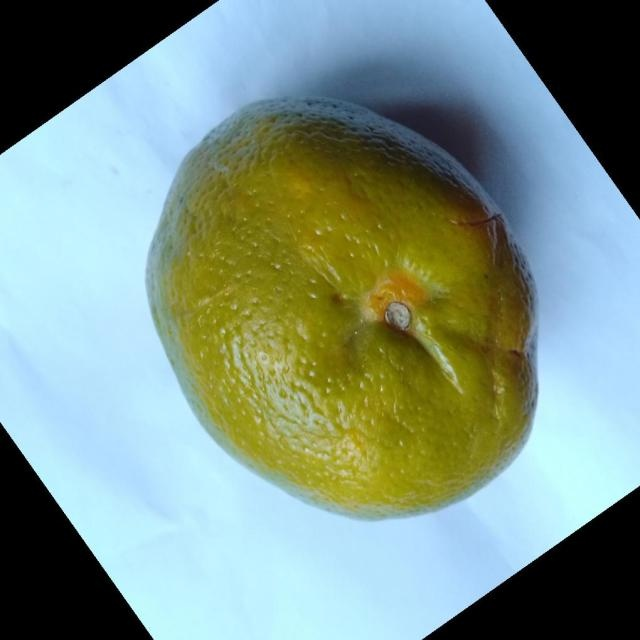agrume: (144, 94, 540, 522)
